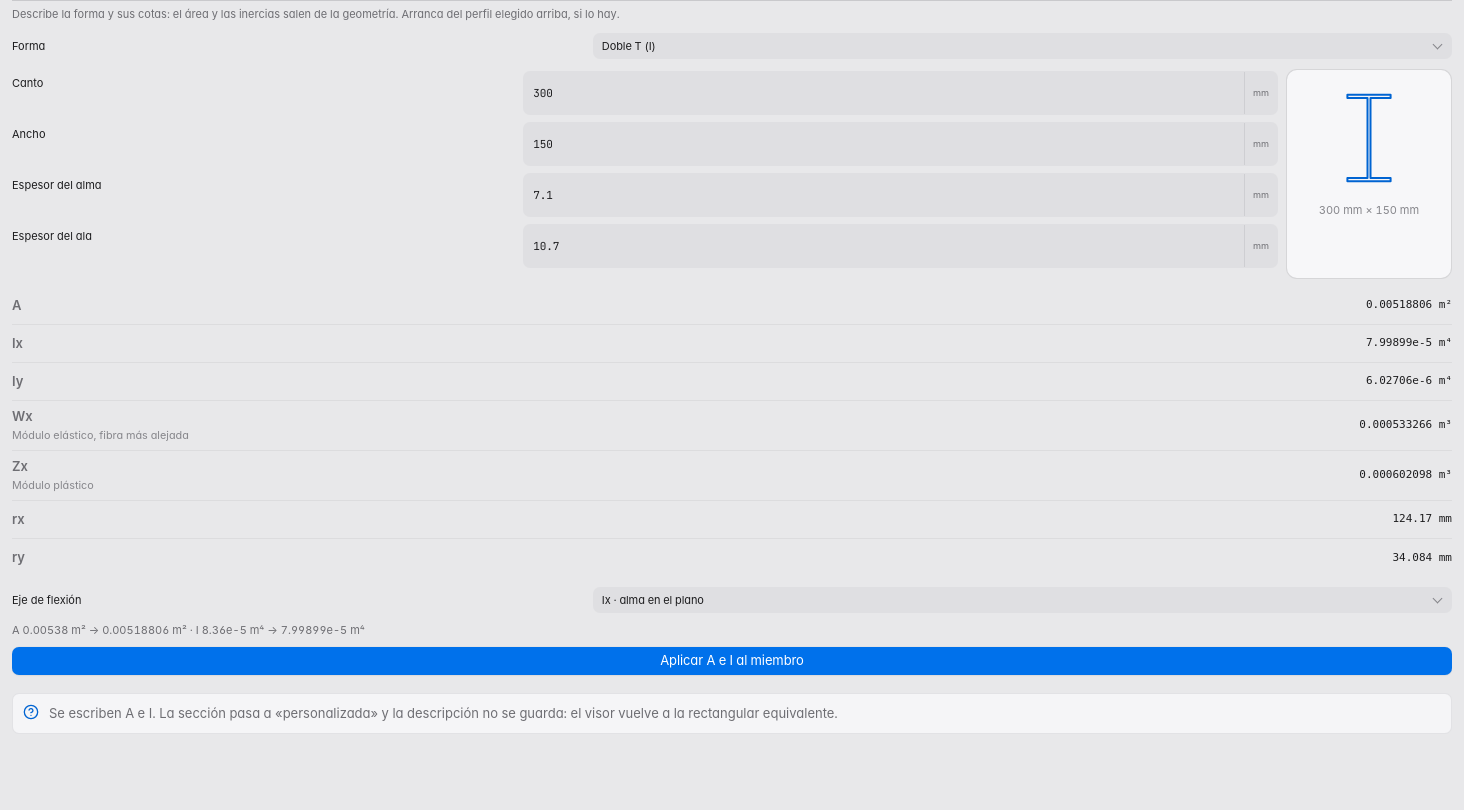
cambiar de forma › pide las cotas del tubo y dibuja su contorno, no una caja
Step 1. Select "Tubo circular" in the dropdown labelled "Forma" → (1022,46), box [593, 33, 1452, 59]
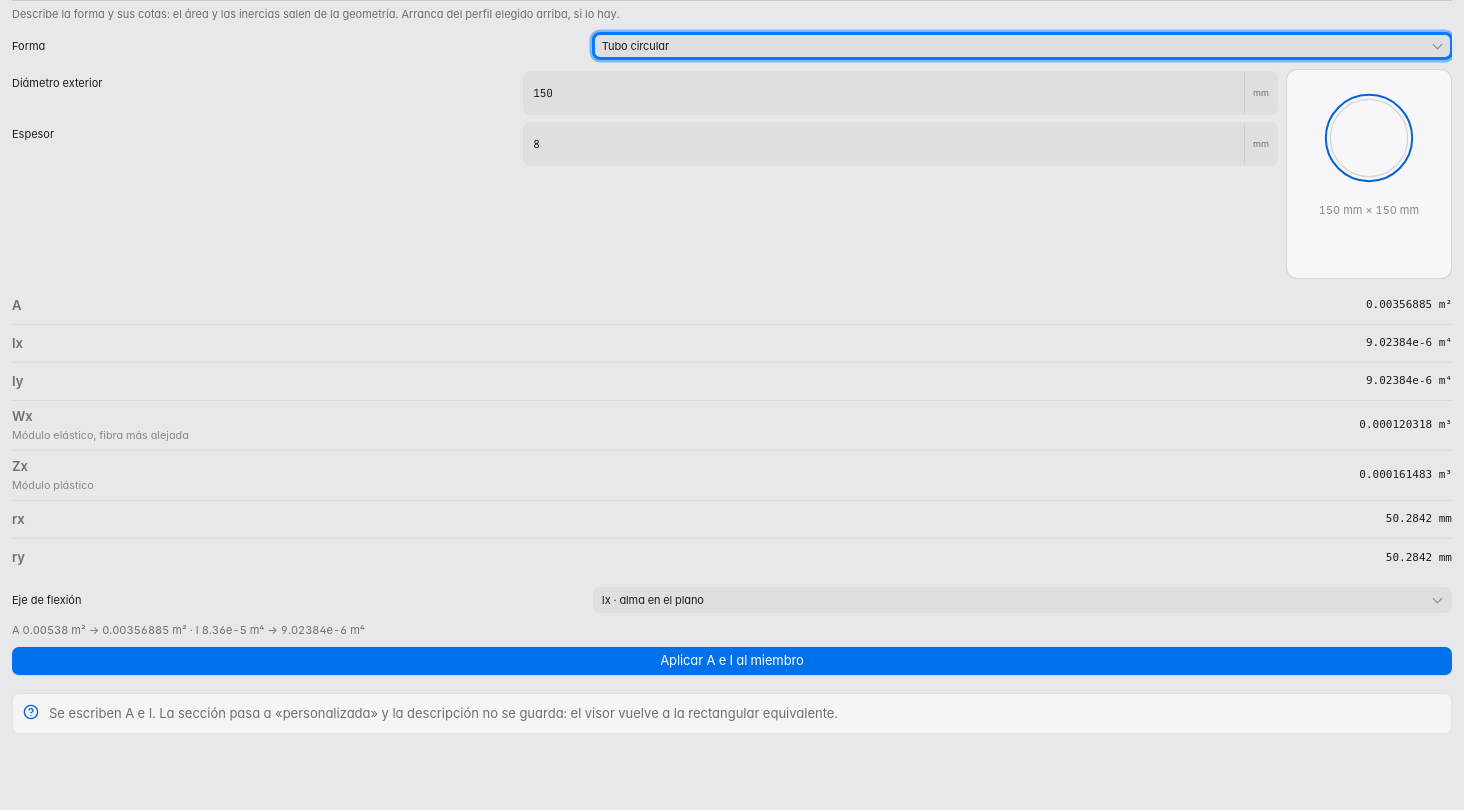
Check: the field labelled "Diámetro exterior" is shown, box [524, 72, 1244, 114]
Check: the label labelled "Canto" is gone
